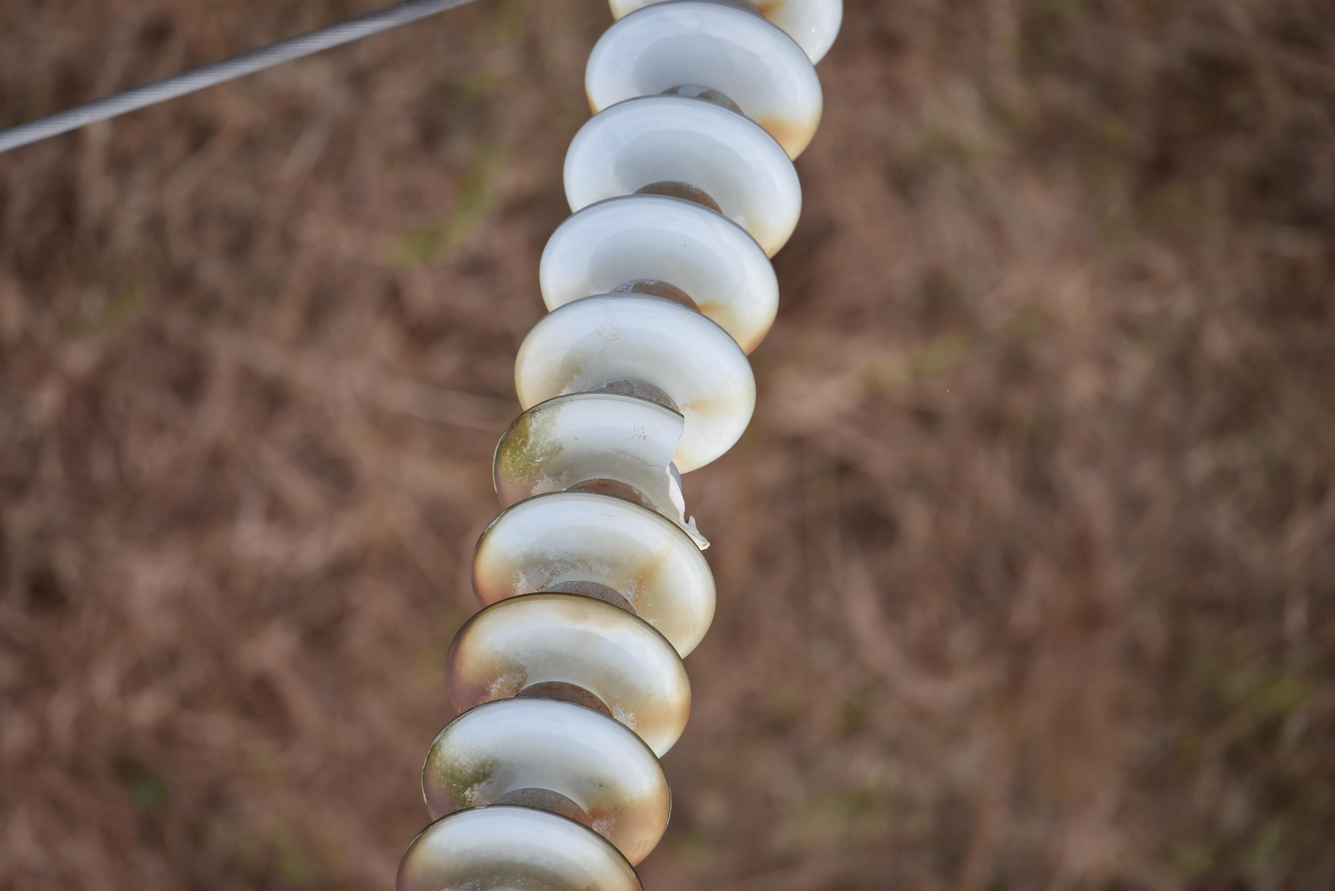damaged: (638, 399, 717, 550)
insulator: (394, 0, 849, 891)
